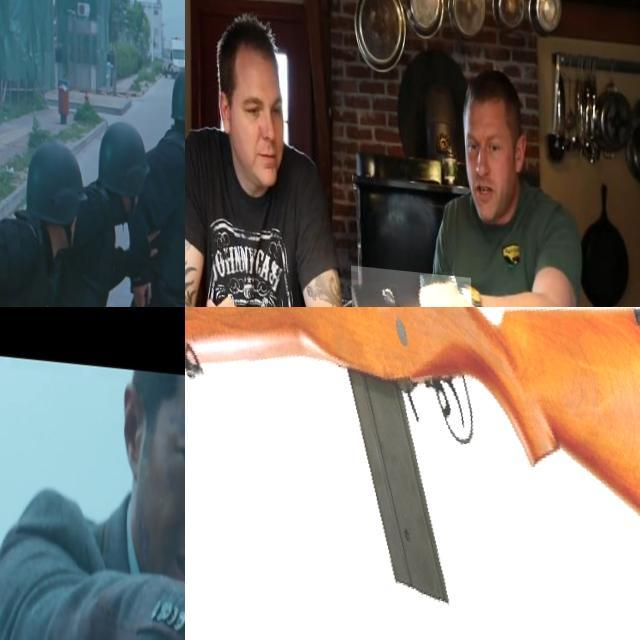-: (349, 258, 471, 307)
gun-knife-thesis - v11 Yolov5 augmented: (185, 307, 640, 640)
